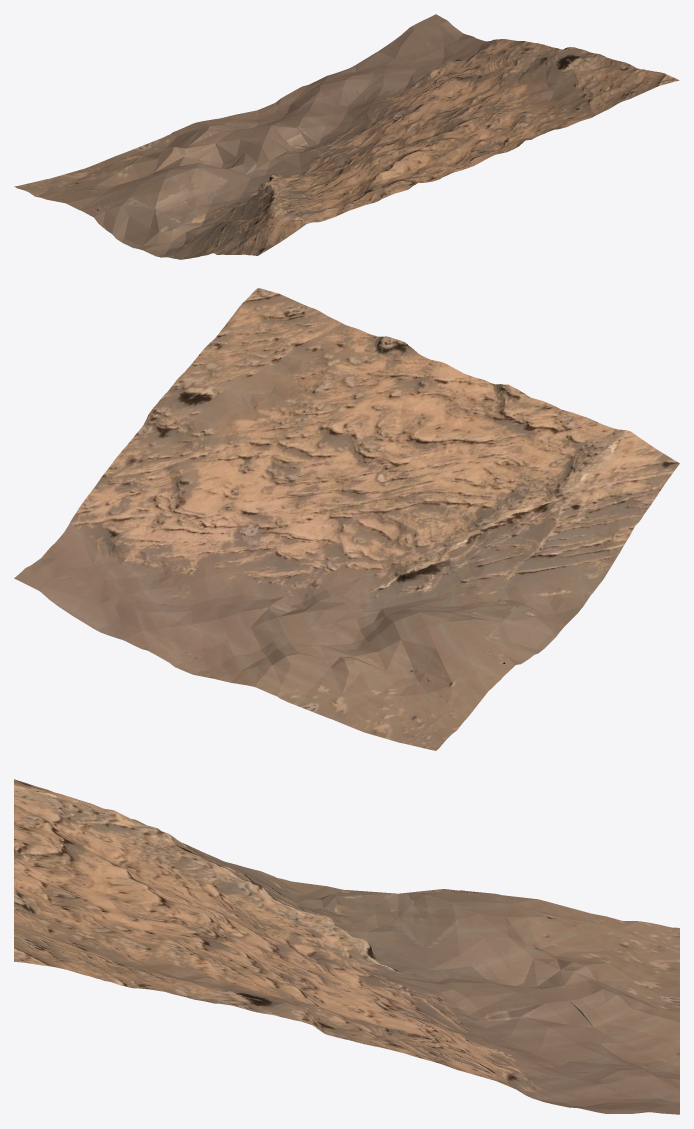
3 views of the same model, one above another, from view 1: azimuth 30°, elevation 25°; view 2: azimuth 150°, elevation 25°; view 3: azimuth 270°, elevation 25° (orthographic). The views are drawn at different scales.
Bounding box in the file's own units: 1.04 × 0.4315 × 1.04.
Materials: 2 (2 with a texture image).
